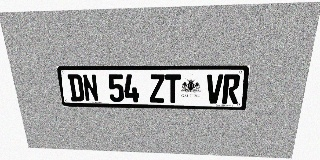4: (123, 74, 139, 102)
5: (108, 74, 124, 102)
D: (67, 74, 85, 101)
N: (82, 74, 99, 102)
R: (222, 74, 241, 104)
T: (165, 74, 181, 103)
V: (206, 74, 223, 104)
Z: (149, 74, 165, 103)
